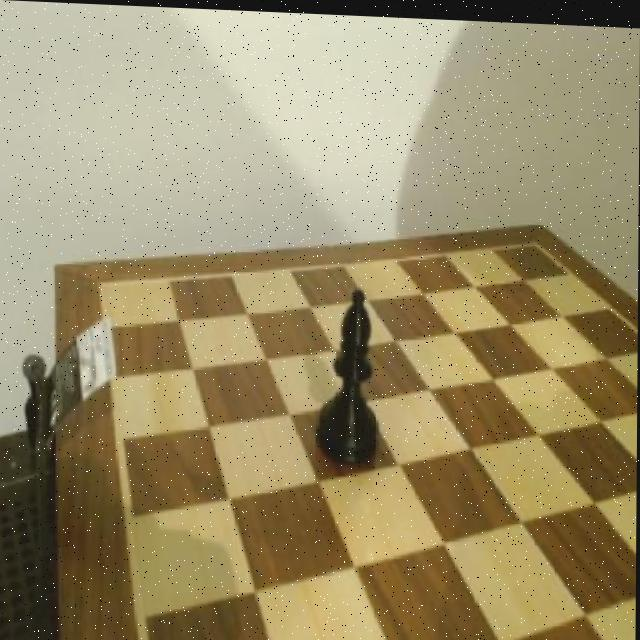bishop: (313, 284, 383, 473)
